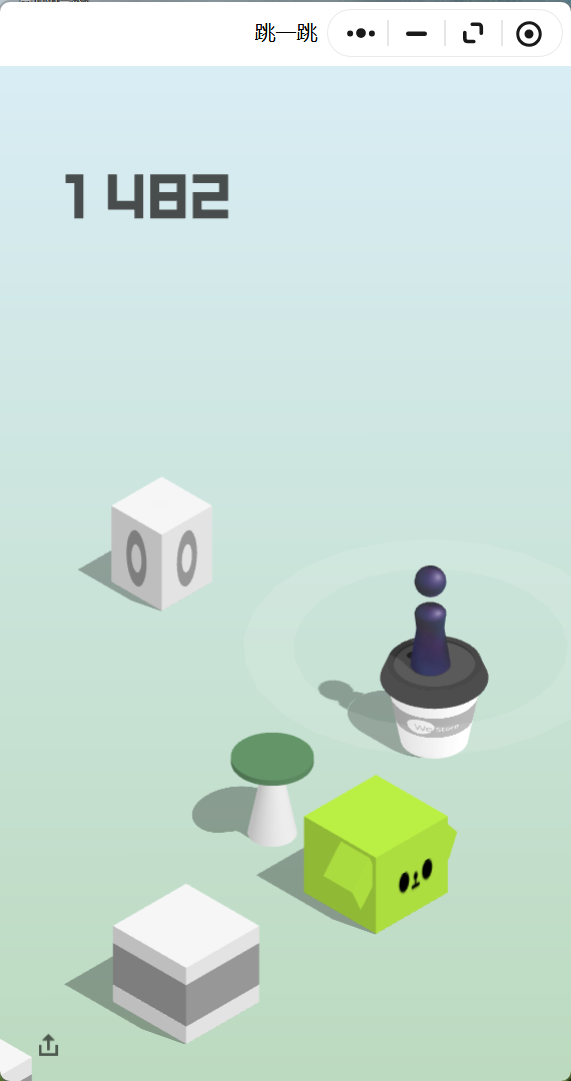piece: (415, 566, 446, 672)
target: (111, 475, 213, 534)
